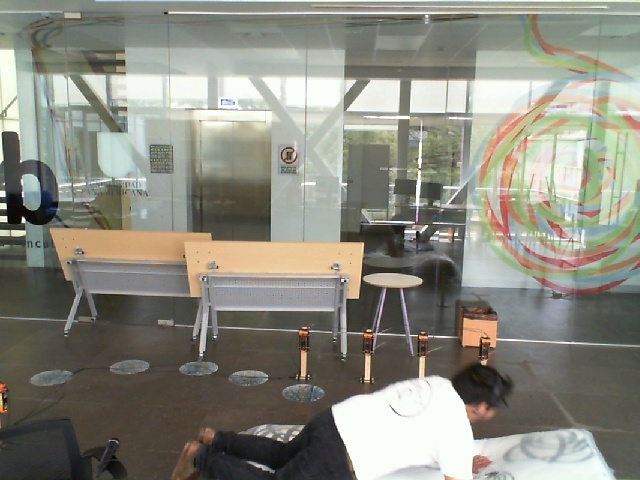fall: (161, 352, 521, 480)
